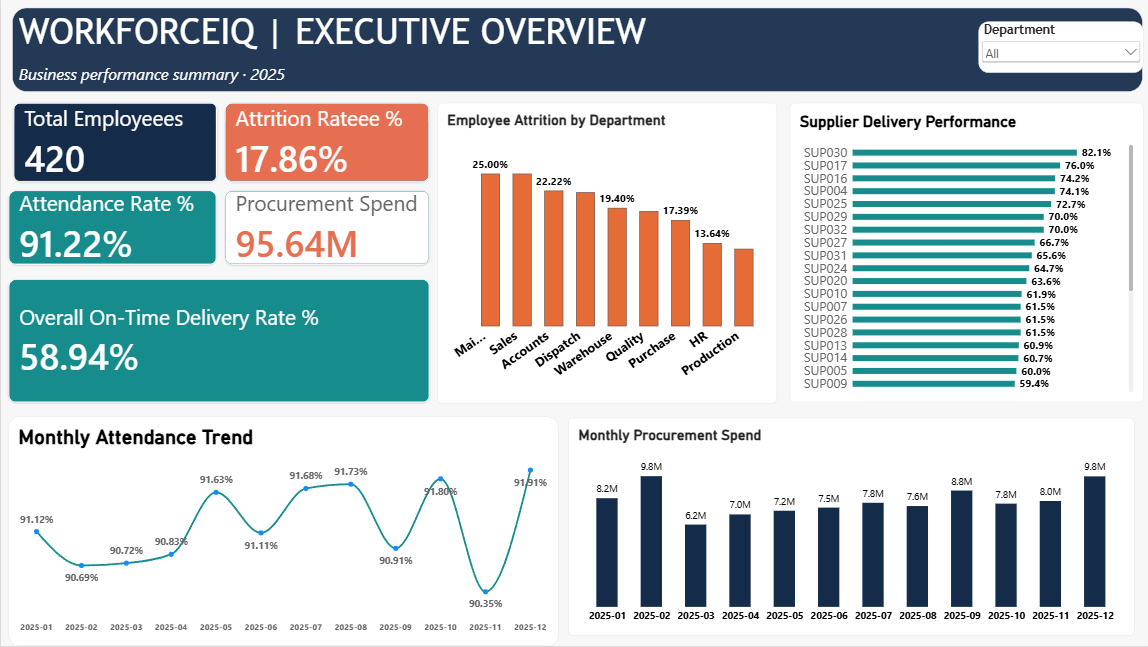

The page's visual inventory and layout, read from the dashboard file:
{"tool":"powerbi","page":{"name":"Executive Overview","canvas":[1920,1080],"ordinal":3},"visuals":[{"type":"textbox","title":"WORKFORCEIQ | EXECUTIVE OVERVIEW ","box":[18.3,15,1884,140],"z":0},{"type":"cardVisual","fields":{"Data":["Measure 2.Total Employeees"]},"box":[20.8,173.6,339.6,132.1],"z":1},{"type":"cardVisual","fields":{"Data":["Measure 2.Filtered Attendance Rate %"]},"box":[13.2,318.9,347.2,124.5],"z":2},{"type":"cardVisual","fields":{"Data":["Measure 2.Attrition Rateee %"]},"box":[373.6,173.6,341.5,132.1],"z":3},{"type":"cardVisual","title":"Attr","fields":{"Data":["Sum(vw_Procurement_Monthly.TotalSpendINR)"]},"box":[373.6,318.9,341.5,124.5],"z":4},{"type":"cardVisual","fields":{"Data":["Measures (2).On-Time Delivery Rate %"]},"box":[12.7,466.9,702.1,206.3],"z":5},{"type":"clusteredColumnChart","title":"Employee Attrition by Department","fields":{"Category":["vw_Workforce_Department.Department"],"Y":["Measure 2.Executive Attrition Rate %"]},"box":[727.5,171.9,566.4,501.3],"z":6},{"type":"lineChart","title":"Monthly Attendance Trend","fields":{"Category":["Monthly_Attendance.Month"],"Y":["Measure 2.Filtered Attendance Rate %"]},"box":[12.7,696.7,917,383],"z":7},{"type":"clusteredColumnChart","title":"Monthly Procurement Spend","fields":{"Category":["vw_Procurement_Monthly.OrderMonth"],"Y":["Sum(vw_Procurement_Monthly.TotalSpendINR)"]},"box":[946.5,698.5,943,363],"z":8},{"type":"clusteredBarChart","title":"Supplier Delivery Performance","fields":{"Category":["vw_Procurement_Supplier.SupplierID"],"Y":["Measures (2).Supplier On-Time Delivery %"]},"box":[1313.8,173.7,589.9,499.5],"z":9},{"type":"slicer","fields":{"Values":["Employees.Department"]},"box":[1628.6,36.7,275.5,85.7],"z":10}]}

Visuals, with their boxes in screenshot pixels (x1, y1, x2, y2), scaled from the page's 1920x1080 canvas onto the 1148x647 screenshot:
"WORKFORCEIQ | EXECUTIVE OVERVIEW " textbox: 11/9/1137/93
cardVisual - Measure 2.Total Employeees: 12/104/215/183
cardVisual - Measure 2.Filtered Attendance Rate %: 8/191/215/266
cardVisual - Measure 2.Attrition Rateee %: 223/104/428/183
"Attr" cardVisual: 223/191/428/266
cardVisual - Measures (2).On-Time Delivery Rate %: 8/280/427/403
"Employee Attrition by Department" clusteredColumnChart: 435/103/774/403
"Monthly Attendance Trend" lineChart: 8/417/556/646
"Monthly Procurement Spend" clusteredColumnChart: 566/418/1130/636
"Supplier Delivery Performance" clusteredBarChart: 786/104/1138/403
slicer - Employees.Department: 974/22/1138/73
